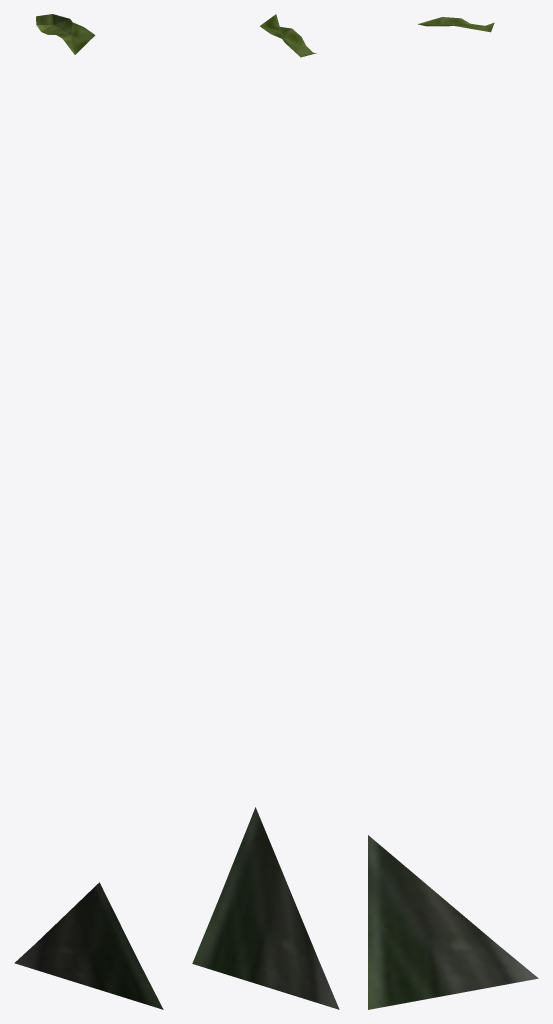
3 renders of one model, left to right at view 1: azimuth 30°, elevation 25°; view 2: azimuth 210°, elevation 25°; view 3: azimuth 270°, elevation 25°, orthographic.
Size of the model in its own units: 0.4118 by 5.9 by 0.9476.
Materials: 1 (1 with a texture image).
